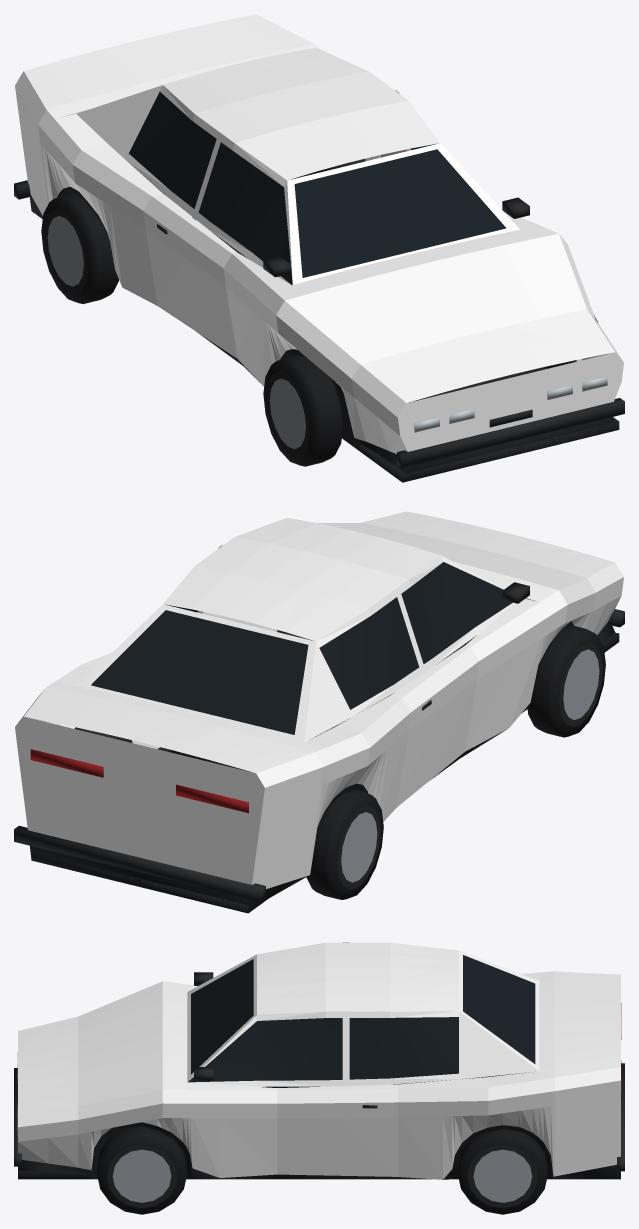
Rendered from vorhaus_ameixa.glb.
The picture shows the model from 3 angles, top to bottom: view 1: azimuth 30°, elevation 25°; view 2: azimuth 150°, elevation 25°; view 3: azimuth 270°, elevation 25°; orthographic projection. The views are drawn at different scales.
Parts seen in each view (by area): view 1: Body_Paint, Body_Details, Mount_FrontLeft_Wheel_Details, Mount_RearLeft_Wheel_Details; view 2: Body_Paint, Body_Details, Mount_FrontLeft_Wheel_Details, Mount_RearLeft_Wheel_Details; view 3: Body_Paint, Body_Details, Mount_FrontRight_Wheel_Details, Mount_RearRight_Wheel_Details.
Boxes of the visible parts, x1,y1,x2,y2 form: Body_Paint: (15,14,623,453); Body_Details: (14,91,624,482); Mount_FrontLeft_Wheel_Details: (263,355,342,466); Mount_RearLeft_Wheel_Details: (41,192,118,303); Body_Paint: (15,511,623,888); Body_Details: (14,562,624,913); Mount_FrontLeft_Wheel_Details: (527,624,605,737); Mount_RearLeft_Wheel_Details: (306,789,383,899); Body_Paint: (18,942,620,1179); Body_Details: (14,955,624,1179); Mount_FrontRight_Wheel_Details: (96,1126,187,1214); Mount_RearRight_Wheel_Details: (457,1129,547,1214).
Bounding box in the file's own units: 1.88 × 1.37 × 4.11.
2 materials, 1 textured.
